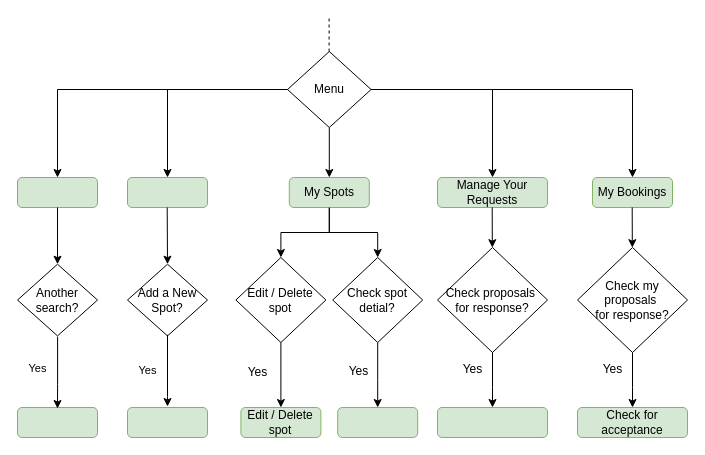
Some shapes in this 705 by 455 pixel diagram are drawn without their labels. Here are the shapes that lost their labels. From the top down, the box of each, then its label:
(16, 176, 98, 208): New Search
(126, 176, 208, 208): Add a Spot
(16, 406, 98, 438): Search
(126, 406, 208, 438): Creates Spot
(337, 406, 418, 438): Details
(436, 406, 548, 438): Accept / Deny proposal
